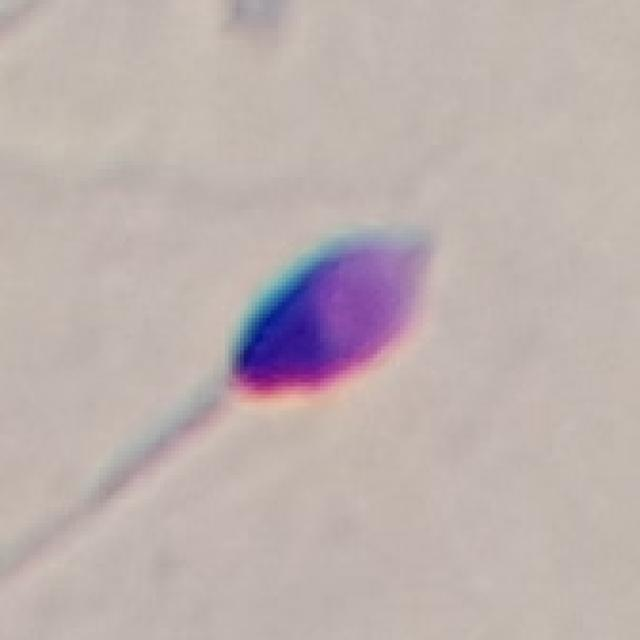normal sperm: (150, 234, 424, 461)
